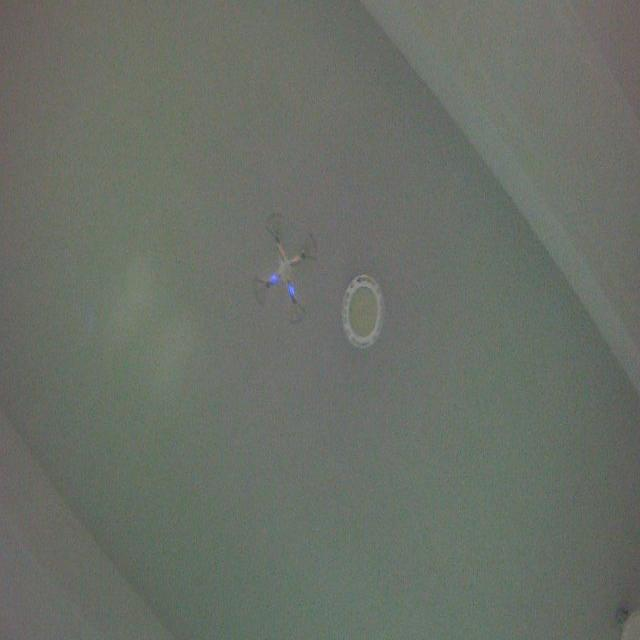drone: (249, 207, 321, 327)
